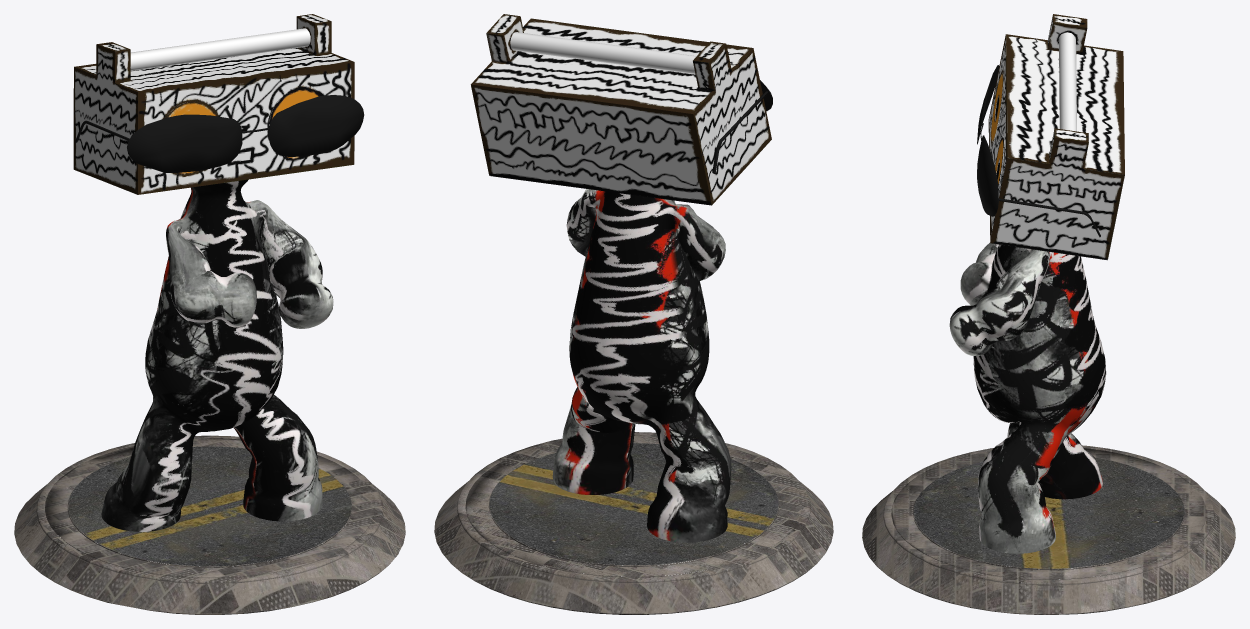
3 renders of one model, left to right at view 1: azimuth 30°, elevation 25°; view 2: azimuth 150°, elevation 25°; view 3: azimuth 270°, elevation 25°, orthographic. The views are drawn at different scales.
Parts seen in each view (by area): view 1: BBody; view 2: BBody; view 3: BBody.
Boxes of the visible parts, x1,y1,x2,y2 form: BBody: (14,14,405,614); BBody: (434,14,833,614); BBody: (862,14,1235,614).
Bounding box in the file's own units: 1.45 × 2.05 × 1.45.
5 materials, 4 textured.
